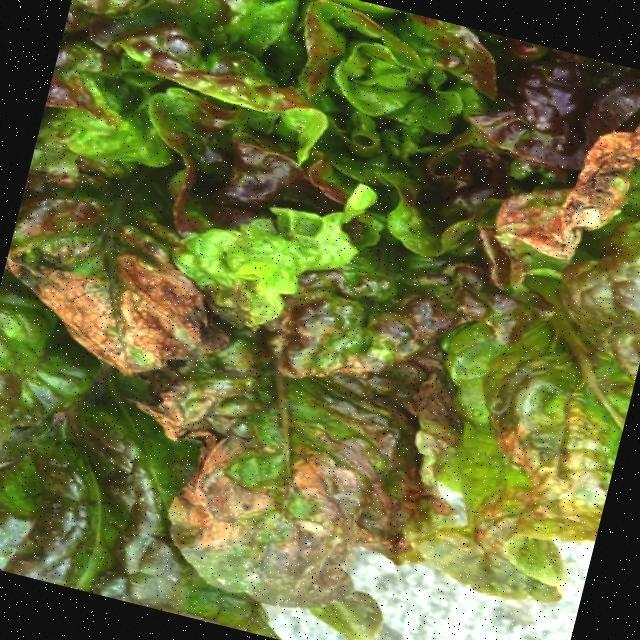Bacterial: (162, 357, 376, 585), (484, 85, 640, 281), (35, 236, 207, 384)
